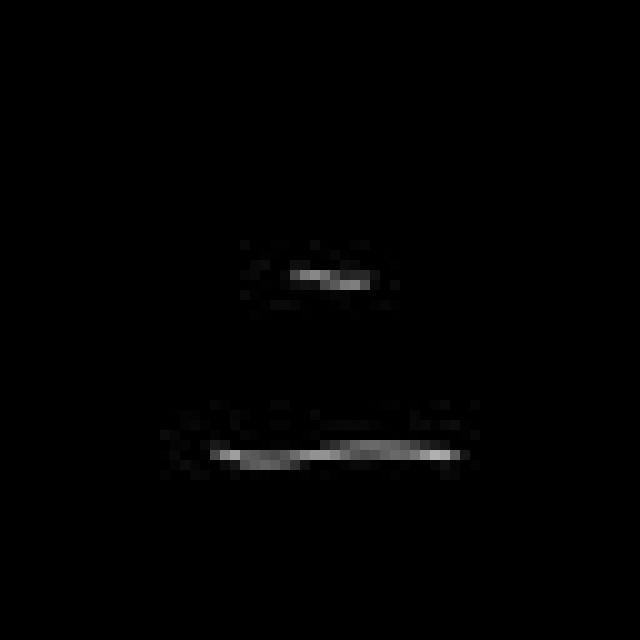2 -two-: (200, 241, 486, 506)
